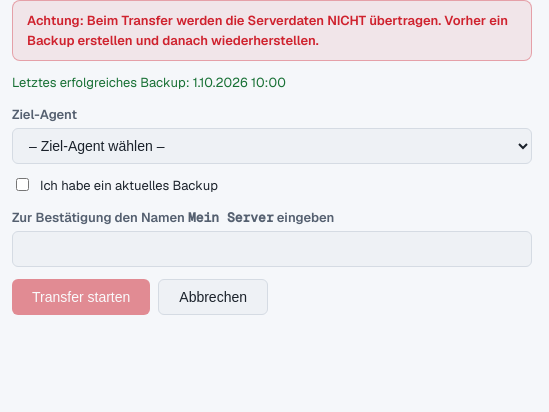
Test: TransferInstanceForm › zeigt den Fehler des Backends und erlaubt einen neuen Versuch
Check: the text "Letztes erfolgreiches Backup: 1.10.2026 10:00" is shown, box left=12, top=74, right=286, bottom=91
Select "Node-3" in the dropdown labelled "Ziel-Agent" at (272, 146), box left=12, top=128, right=532, bottom=164
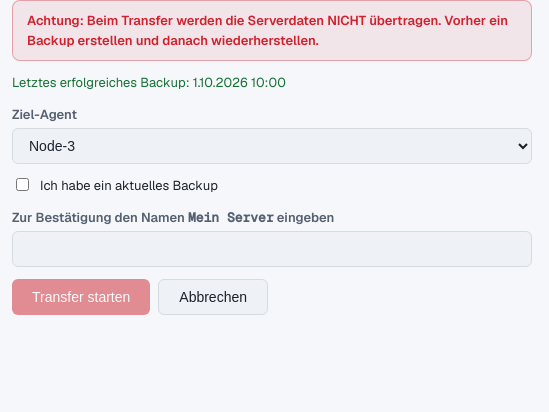
Click the checkbox labelled "Ich habe ein aktuelles Backup".
click(22, 184)  # box left=16, top=178, right=29, bottom=191
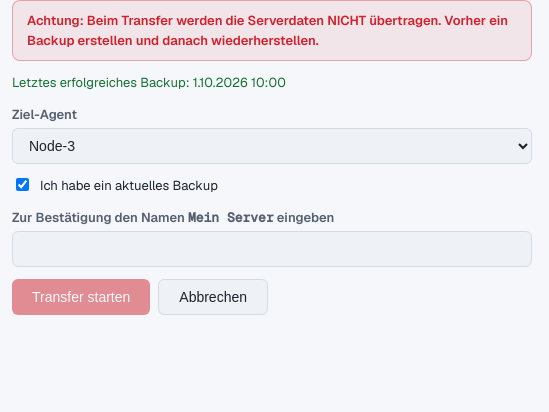
Type "Mein Server" into the field labelled "Zur Bestätigung den Namen Mein Server eingeben".
click(272, 249); type("Mein Server")  # box left=12, top=231, right=532, bottom=267
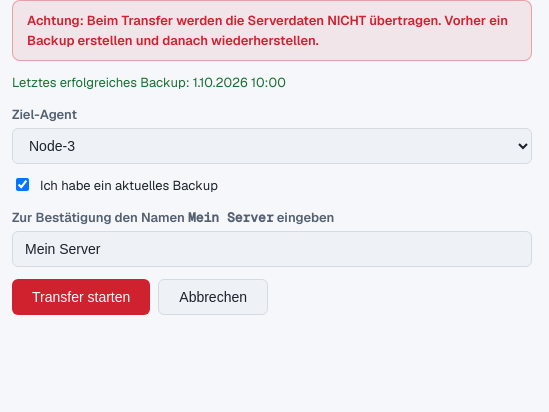
Click the button "Transfer starten".
click(81, 297)  # box left=12, top=279, right=150, bottom=315
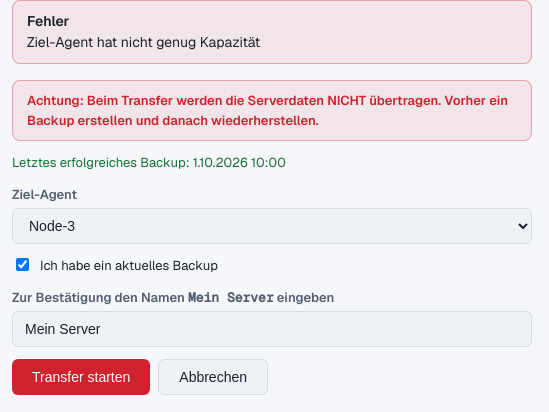
Check: the button "Transfer starten" is enabled, box left=12, top=359, right=150, bottom=395
Check: the text "Ziel-Agent hat nicht genug Kapazität" is shown, box left=27, top=33, right=260, bottom=51
